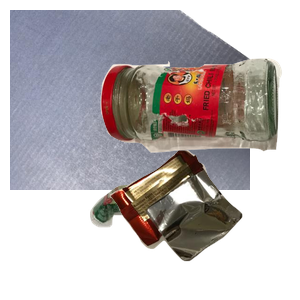cardboard: (10, 10, 250, 190)
glass: (98, 56, 300, 201)
plastic: (88, 182, 242, 300)
trash: (107, 148, 300, 300)
